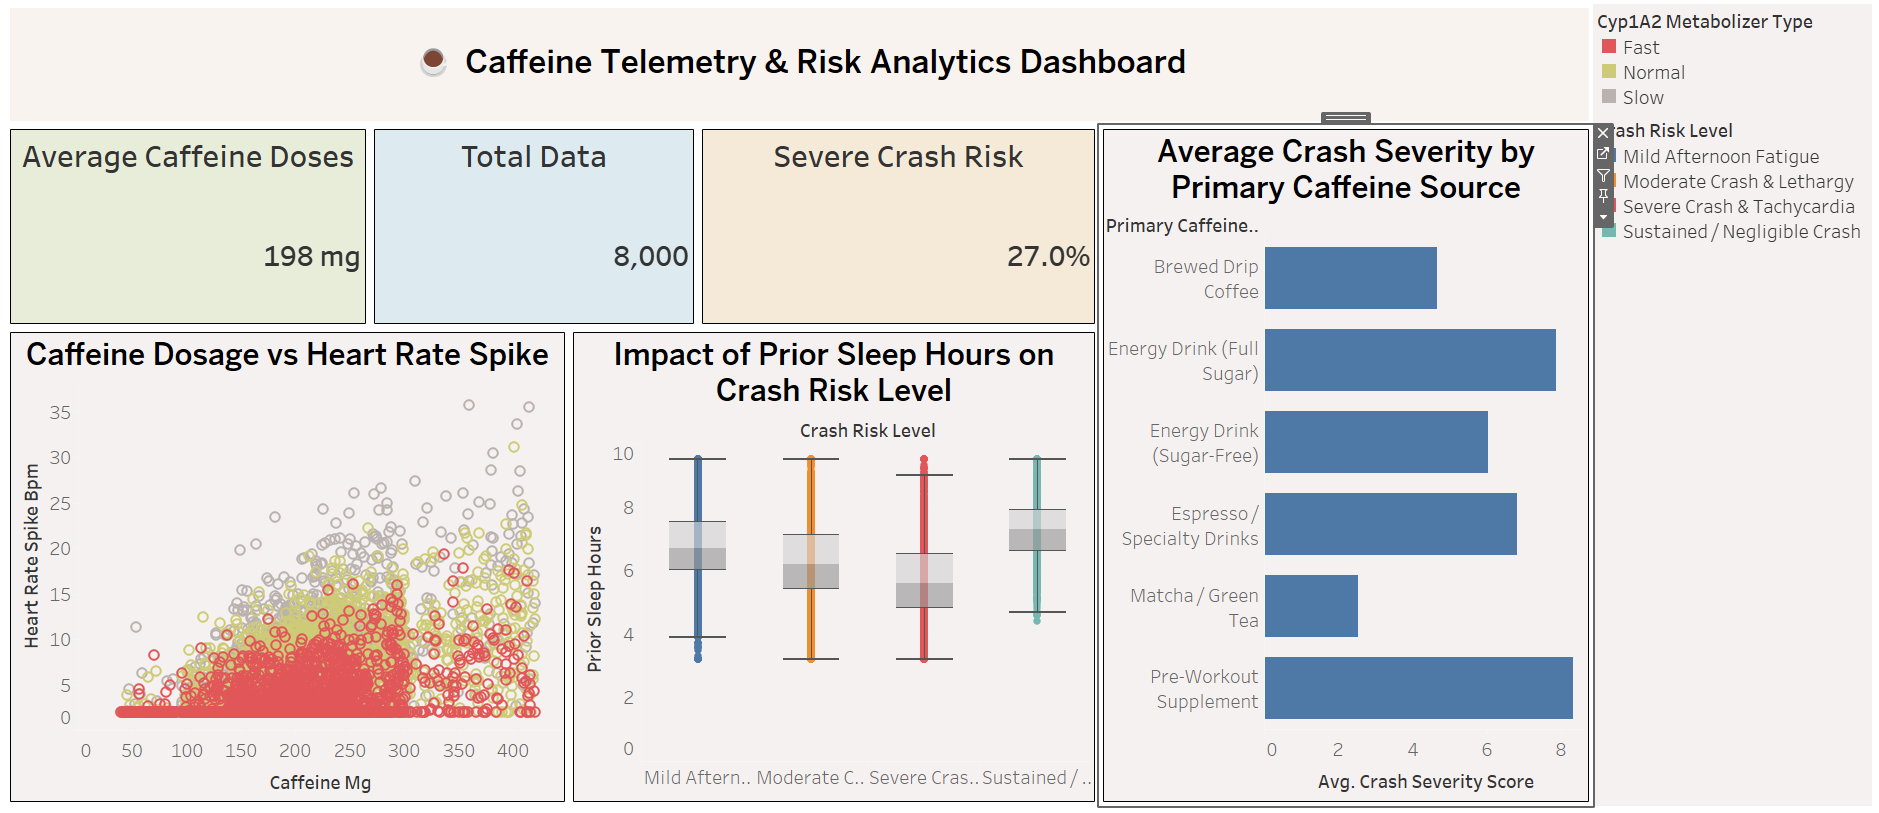

The dashboard page shown, as its layout file describes it:
{"tool":"tableau","page":{"name":"Dashboard 1","canvas":[1000,1000],"units":"permille","ordinal":0},"visuals":[{"type":"text","box":[4.2,9.8,843.2,147.9]},{"type":"legend","title":"Sheet 2","param":"[federated.1qgw1iq18opayx19ucm8q1wexiwm].[none:cyp1a2_metabolizer_type:nk]","box":[847.5,9.8,148.2,133.2]},{"type":"legend","title":"Sheet 3","param":"[federated.1qgw1iq18opayx19ucm8q1wexiwm].[none:crash_risk_level:nk]","box":[847.5,143,148.2,163.8]},{"type":"worksheet","title":"Sheet 5","mark":"Automatic","box":[4.2,157.7,193.4,248.2]},{"type":"worksheet","title":"Sheet 4","mark":"Automatic","box":[197.7,157.7,174.4,248.2]},{"type":"worksheet","title":"Sheet 6","mark":"Automatic","box":[372.1,157.7,213.2,248.2]},{"type":"worksheet","title":"Sheet 1","mark":"Automatic","rows":["primary_caffeine_source"],"cols":["crash_severity_score"],"box":[585.3,157.7,262.2,832.5]},{"type":"worksheet","title":"Sheet 2","mark":"Automatic","rows":["heart_rate_spike_bpm"],"cols":["caffeine_mg"],"box":[4.2,405.9,299.1,584.4]},{"type":"worksheet","title":"Sheet 3","mark":"Circle","rows":["prior_sleep_hours"],"cols":["crash_risk_level"],"box":[303.4,405.9,281.9,584.4]}]}

Visuals, with their boxes on the dashboard's canvas, which has no fixed pixel size, in thousandths of its width and height (x1, y1, x2, y2). These are canvas units, not pixel positions in the 1879x813 screenshot, which may show the page scaled, cropped or inside an application window:
text: select_region(4, 10, 847, 158)
"Sheet 2" legend: select_region(848, 10, 996, 143)
"Sheet 3" legend: select_region(848, 143, 996, 307)
"Sheet 5" worksheet: select_region(4, 158, 198, 406)
"Sheet 4" worksheet: select_region(198, 158, 372, 406)
"Sheet 6" worksheet: select_region(372, 158, 585, 406)
"Sheet 1" worksheet: select_region(585, 158, 848, 990)
"Sheet 2" worksheet: select_region(4, 406, 303, 990)
"Sheet 3" worksheet (Circle marks): select_region(303, 406, 585, 990)
